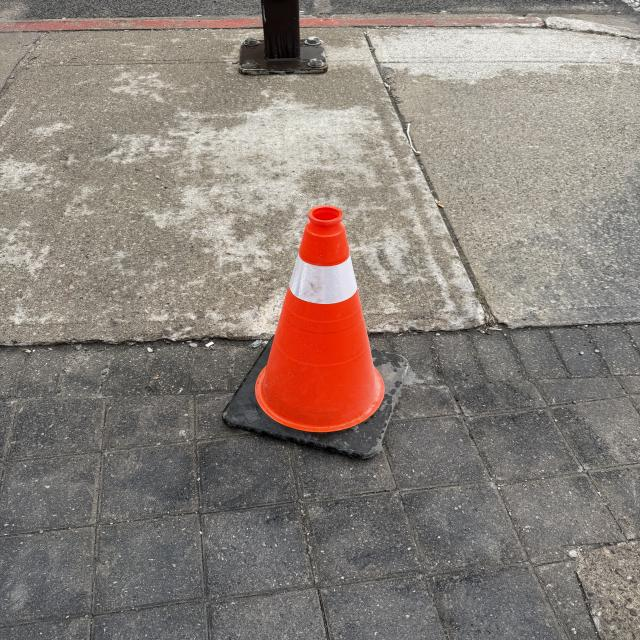Traffic Cone: (218, 207, 412, 458)
